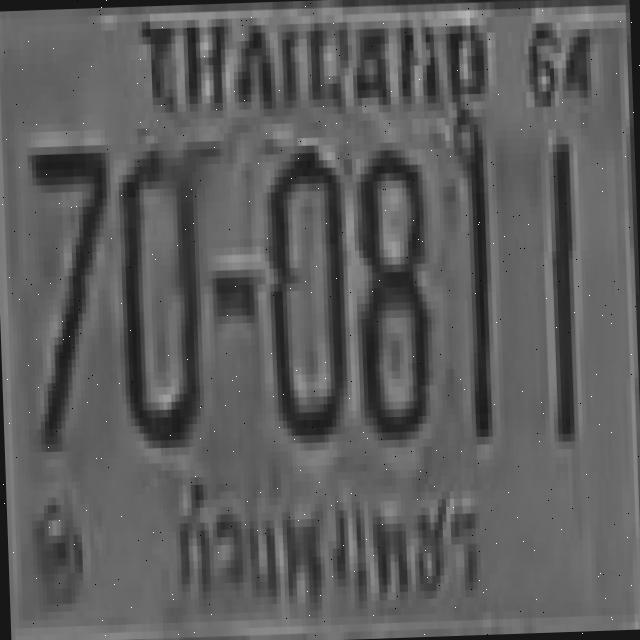0: (115, 138, 207, 438), (260, 136, 348, 436)
1: (459, 123, 494, 430), (459, 127, 494, 433), (544, 136, 578, 434)
7: (26, 136, 116, 444)
8: (351, 141, 431, 433)
KamphaengPhet: (163, 456, 487, 626)
